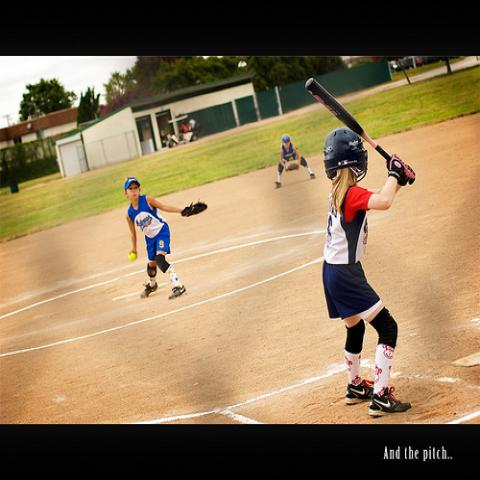car: (392, 58, 413, 72), (420, 56, 440, 67)
